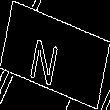N_N: (37, 25, 73, 85)
